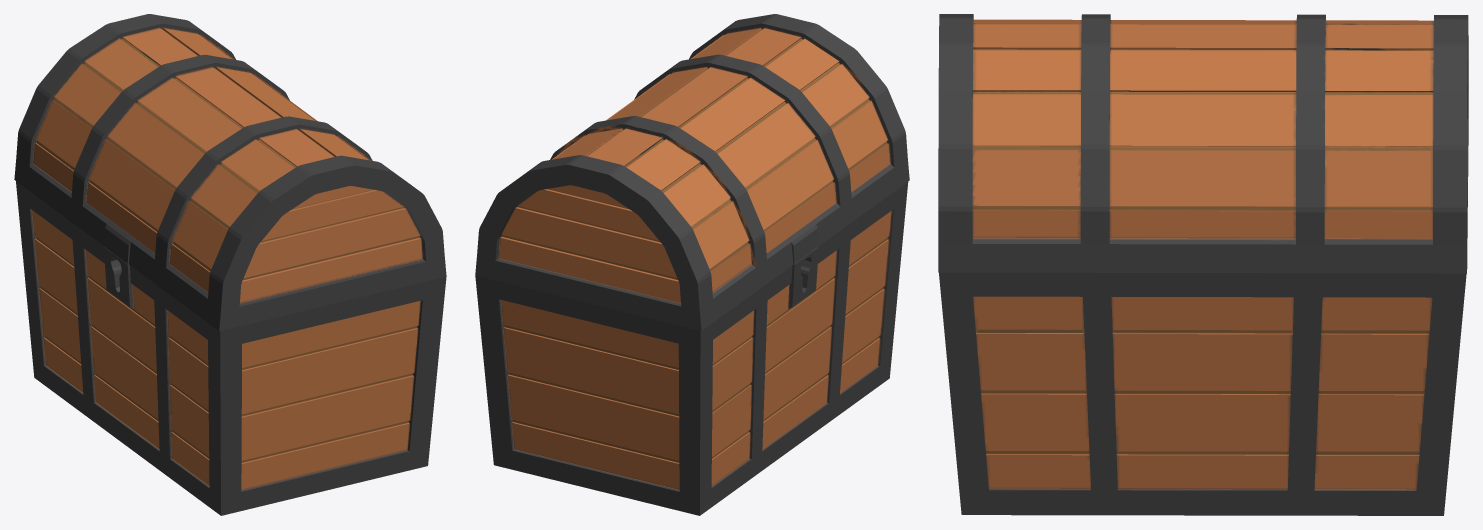
The model's file is Chest.fbx.
3 renders of one model, left to right at view 1: azimuth 30°, elevation 25°; view 2: azimuth 150°, elevation 25°; view 3: azimuth 270°, elevation 25°, orthographic. The views are drawn at different scales.
Visible parts, largest first — view 1: Chest; view 2: Chest; view 3: Chest.
Boxes of the visible parts, left/top/right/bottom form: Chest: left=14, top=14, right=446, bottom=515; Chest: left=475, top=14, right=909, bottom=515; Chest: left=938, top=14, right=1468, bottom=515.
Size of the model in its own units: 91.72 by 125 by 144.
1 material, 1 textured.
